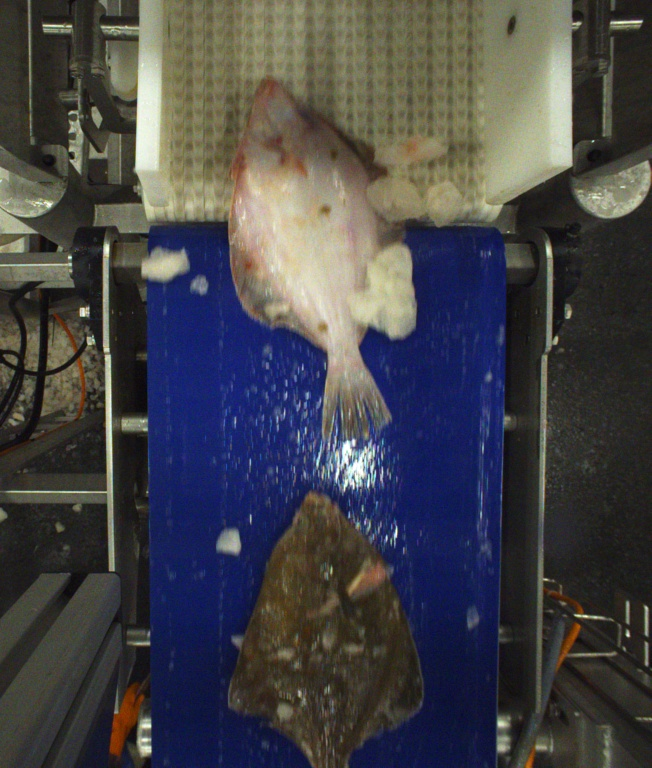PLE: (229, 77, 398, 439)
